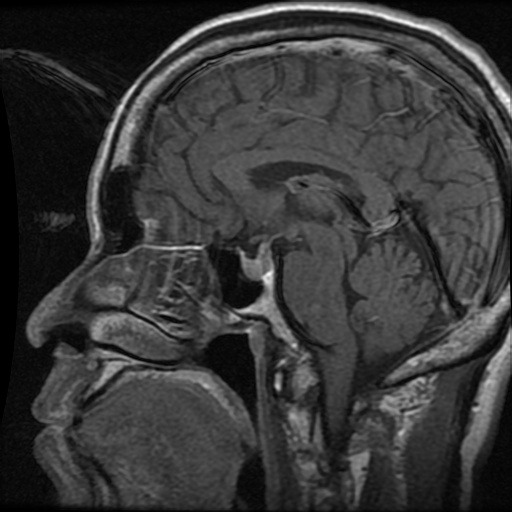pituitary: (240, 252, 274, 282)
